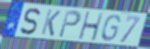7: (120, 15, 142, 44)
G: (100, 14, 122, 42)
H: (78, 11, 104, 43)
K: (40, 9, 62, 38)
P: (57, 9, 82, 39)
S: (19, 7, 42, 36)
